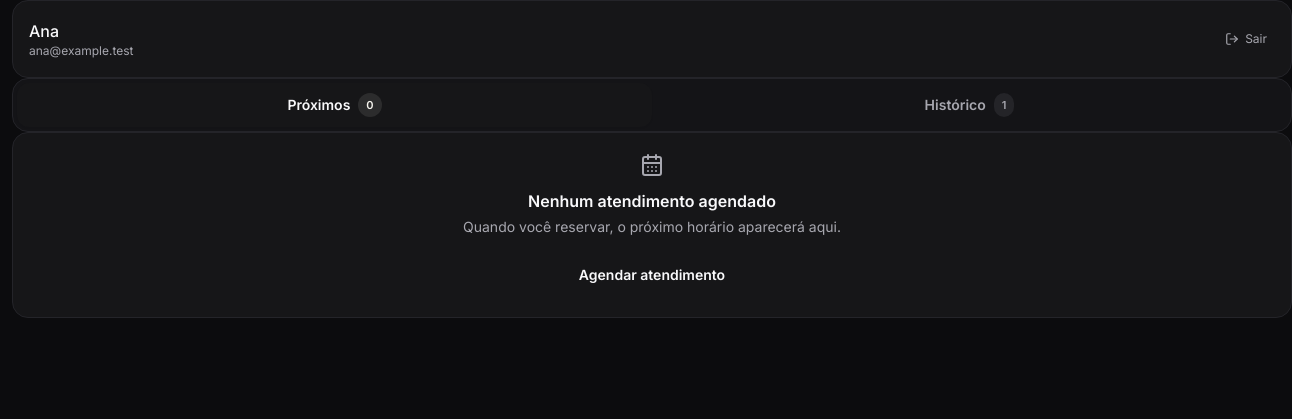
MinhasList › não apresenta uma reserva passada e sem fechamento como confirmação verde
The image size is (1292, 419).
Click the tab "Histórico 1" at (970, 105), box [652, 83, 1287, 127]
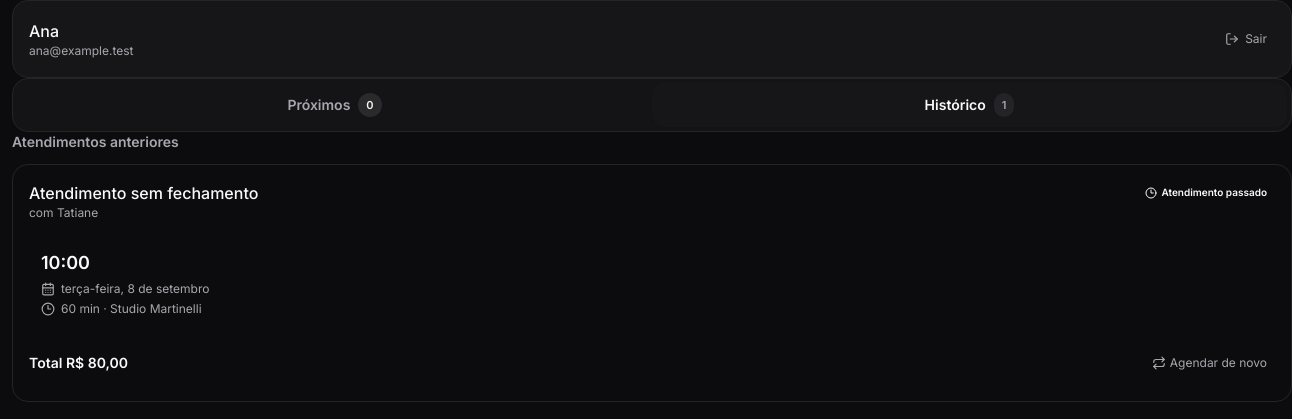
Now the text "Atendimento passado" is shown, box [1145, 186, 1267, 198]
